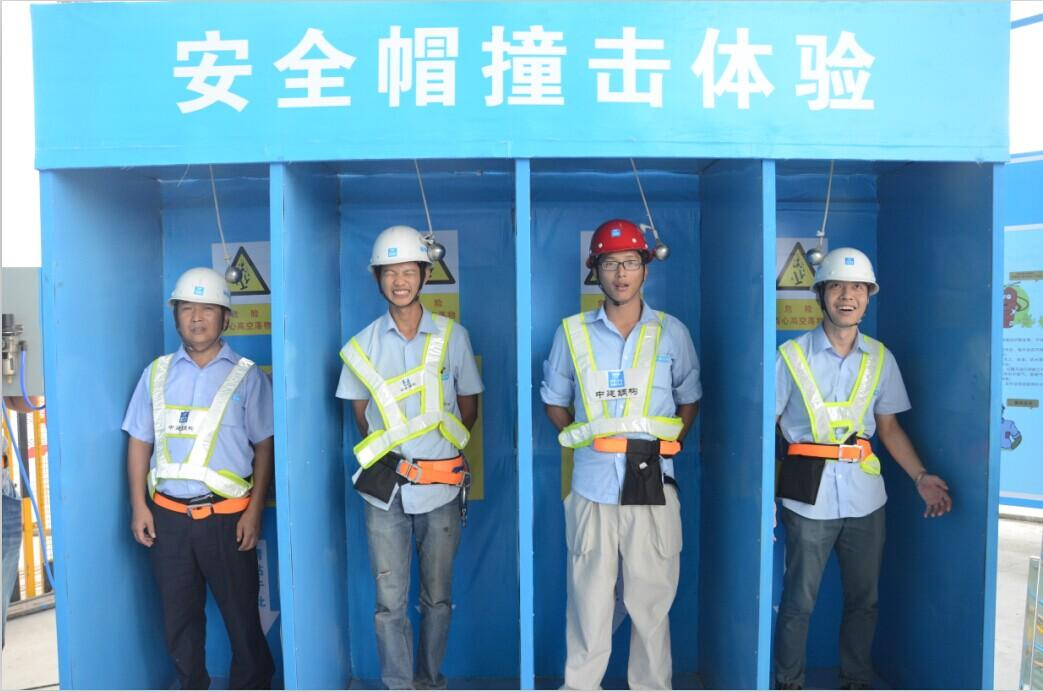helmet: (810, 249, 878, 294), (167, 267, 235, 310), (586, 219, 652, 261), (370, 226, 435, 267)
